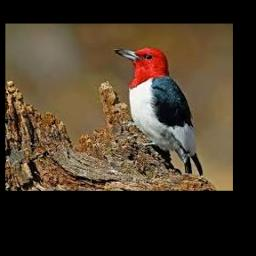Woodpecker: (115, 47, 204, 176)
